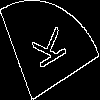K: (24, 25, 68, 76)
